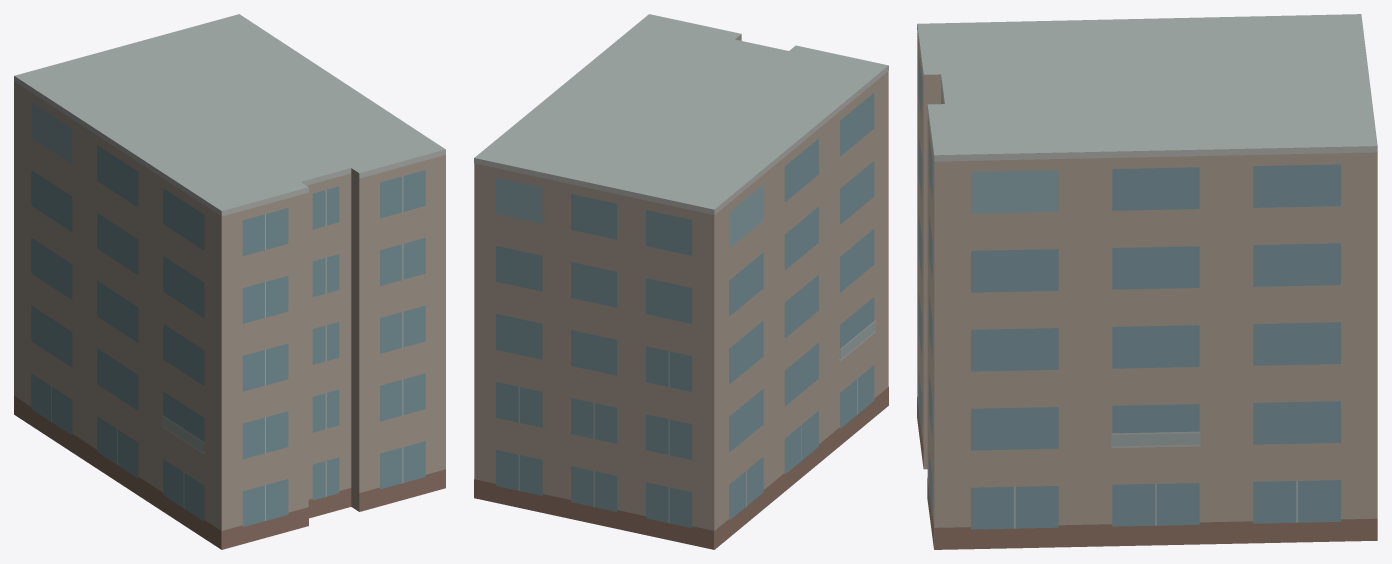
Rendered from survey-upis-32637399.glb.
3 renders of one model, left to right at view 1: azimuth 30°, elevation 25°; view 2: azimuth 150°, elevation 25°; view 3: azimuth 270°, elevation 25°, orthographic. The views are drawn at different scales.
Visible parts, largest first — view 1: survey-upis-32637399.tmp; view 2: survey-upis-32637399.tmp; view 3: survey-upis-32637399.tmp.
Part boxes in pixels (left/top/right/bottom): survey-upis-32637399.tmp: left=14, top=14, right=445, bottom=549; survey-upis-32637399.tmp: left=474, top=14, right=888, bottom=549; survey-upis-32637399.tmp: left=917, top=14, right=1377, bottom=549.
Size of the model in its own units: 11.71 by 15.25 by 16.14.
